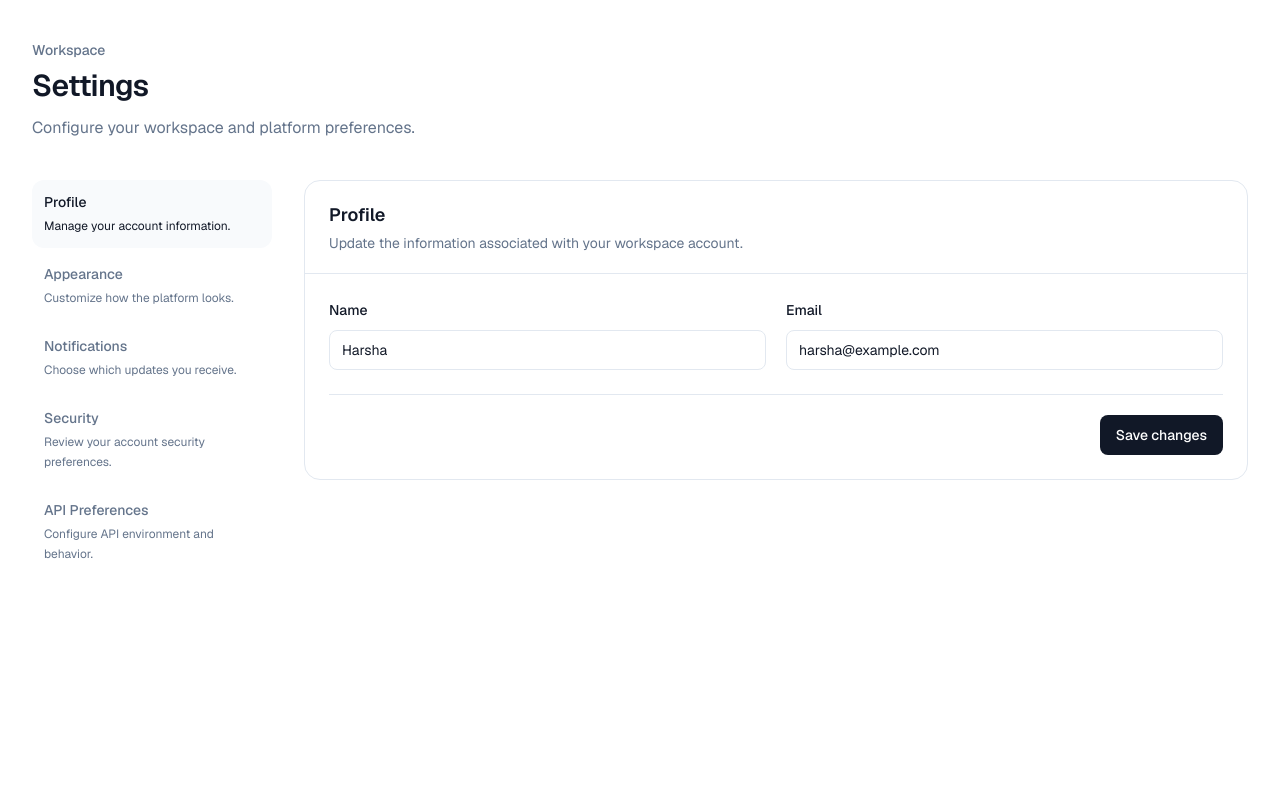
Test case: SettingsPage › switches between settings sections
Step 1. Click the button "Appearance Customize how the platform looks." → (152, 286), box [32, 252, 272, 320]
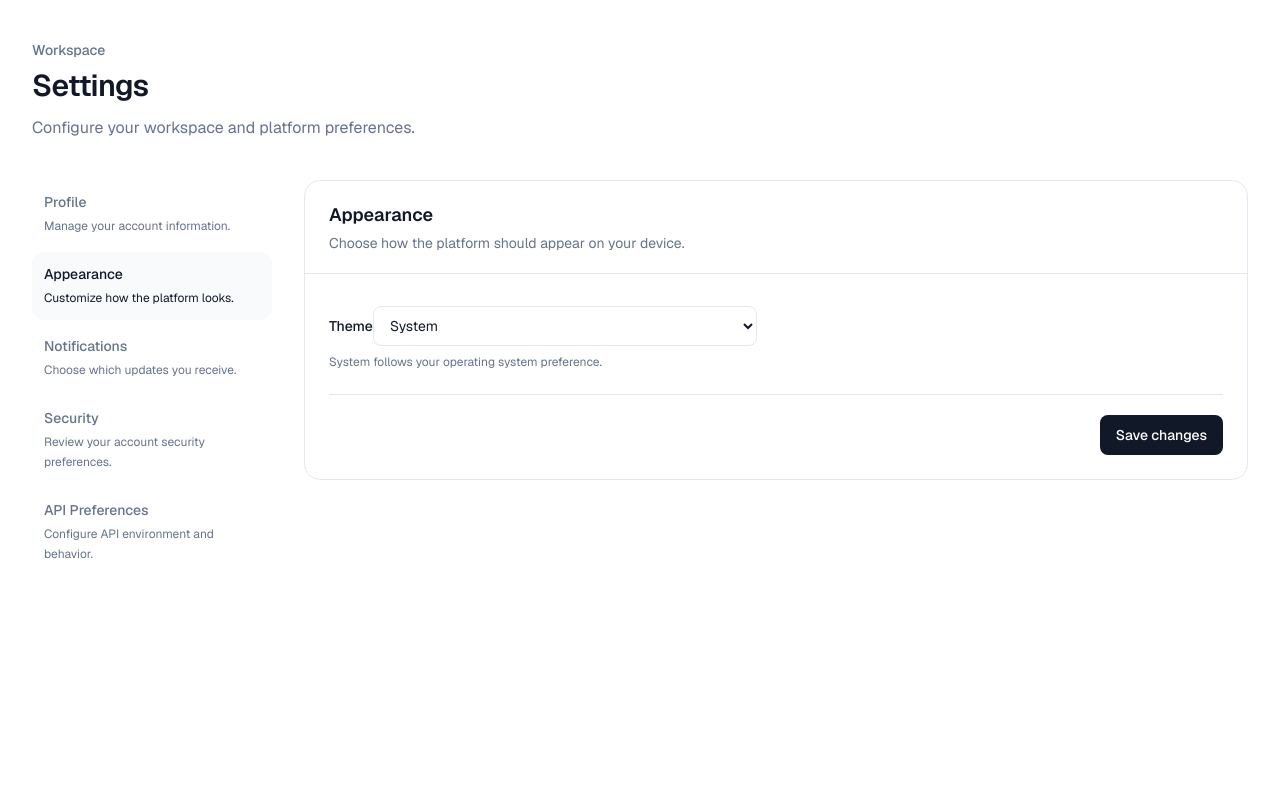
Result: the heading "Appearance" is shown at [329, 203, 433, 226]
Step 2. Click the button "Notifications Choose which updates you receive." → (152, 358), box [32, 324, 272, 392]
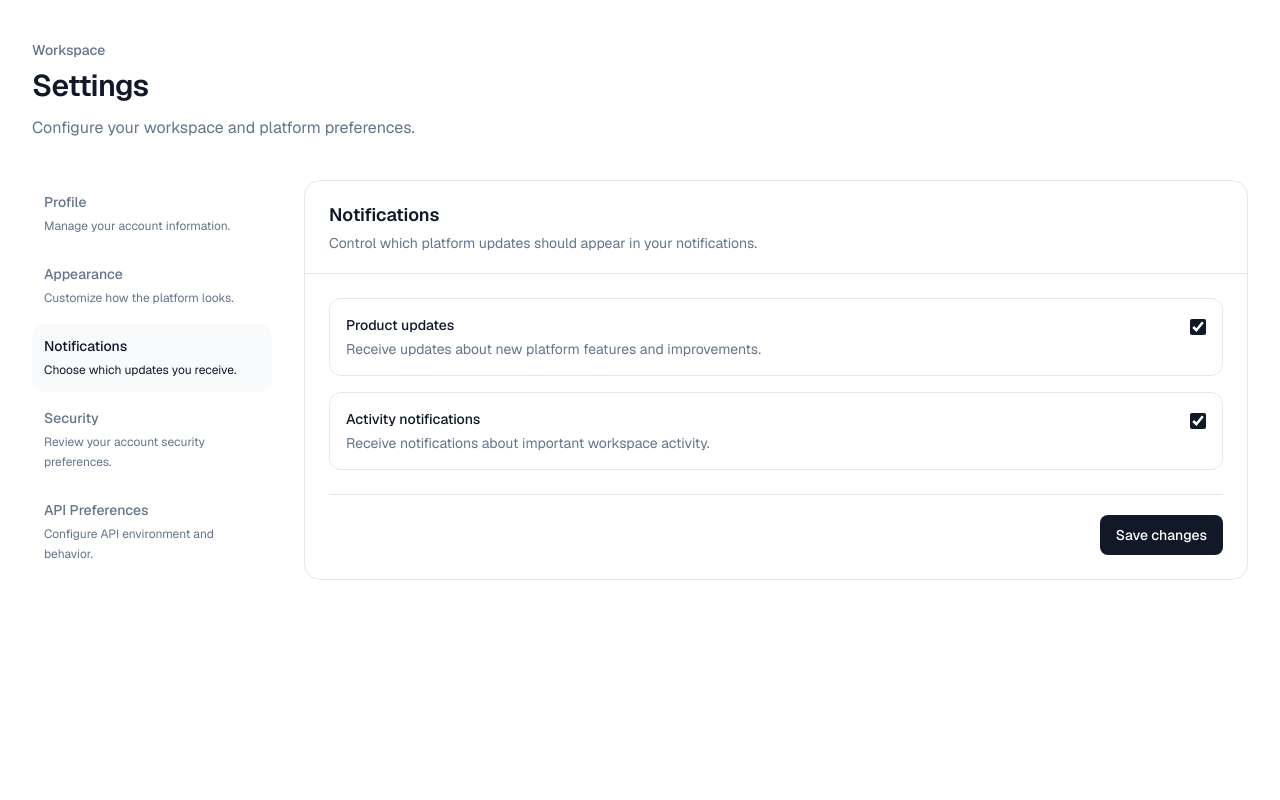
Result: the heading "Notifications" is shown at [329, 203, 439, 226]
Step 3. Click the button "Security Review your account security preferences." → (152, 440), box [32, 396, 272, 484]
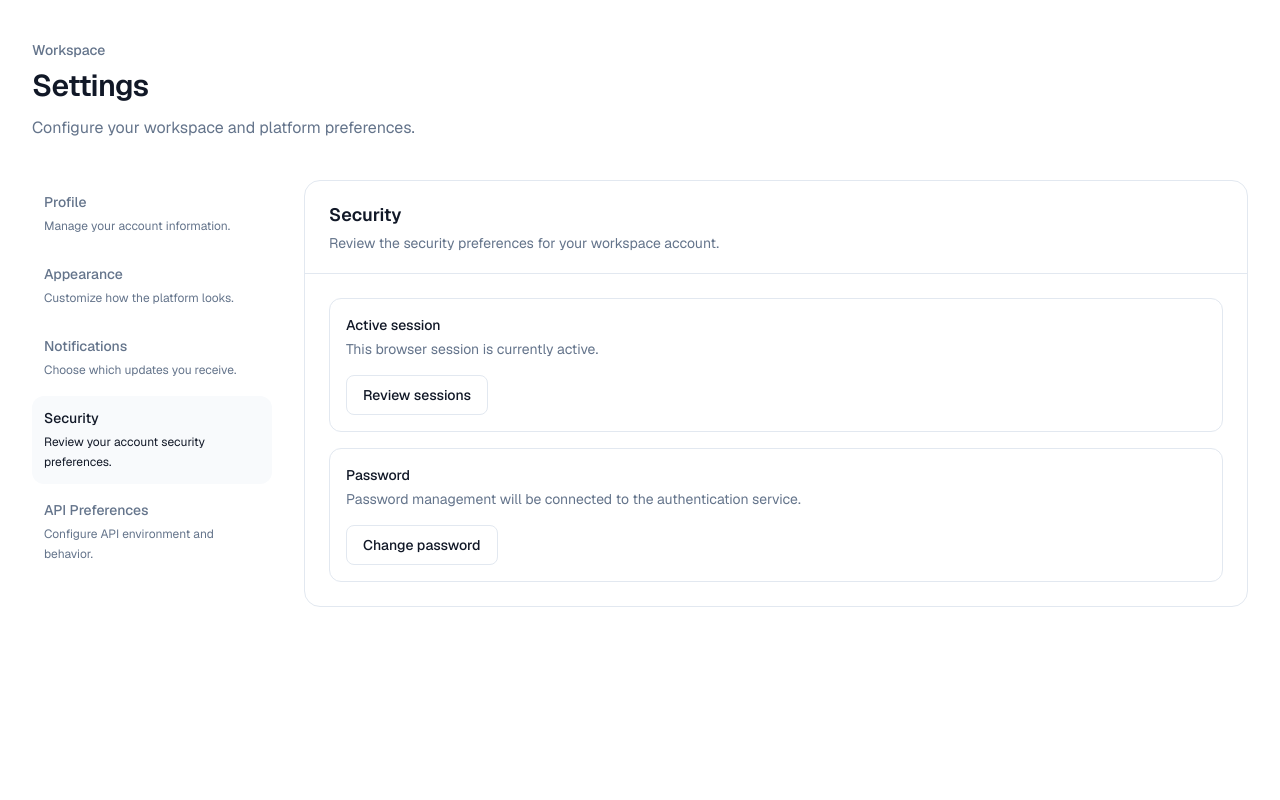
Result: the heading "Security" is shown at [329, 203, 402, 226]
Step 4. Click the button "API Preferences Configure API environment and behavior." → (152, 532), box [32, 488, 272, 576]
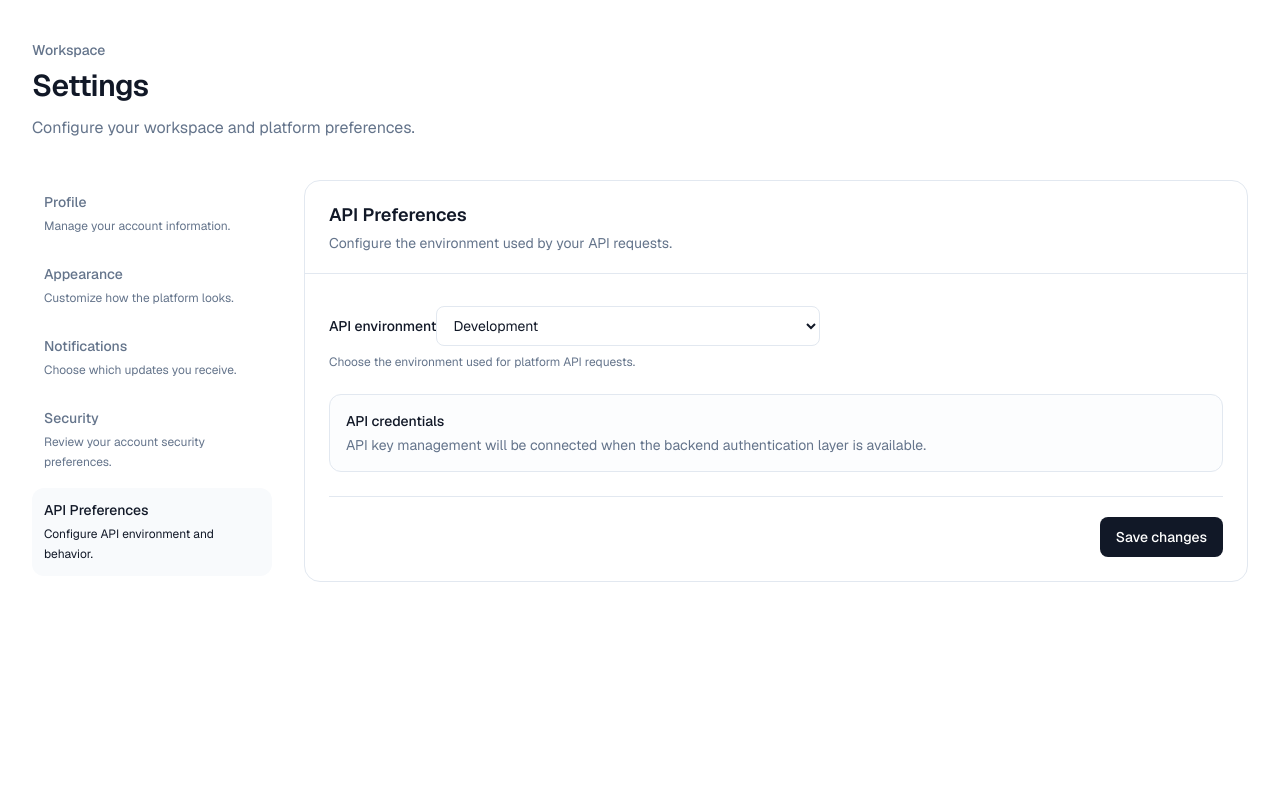
Result: the heading "API Preferences" is shown at [329, 203, 467, 226]
